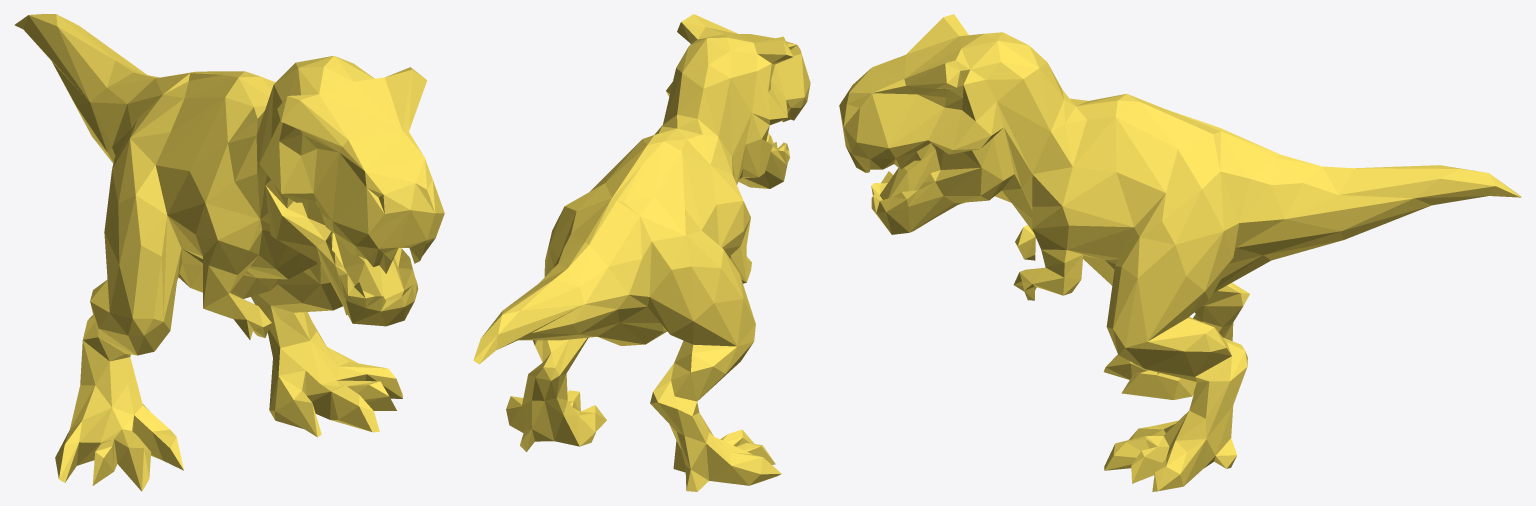
The model's file is card-177.glb.
3 renders of one model, left to right at view 1: azimuth 30°, elevation 25°; view 2: azimuth 150°, elevation 25°; view 3: azimuth 270°, elevation 25°, orthographic. The views are drawn at different scales.
Visible parts, largest first — view 1: card-177.glb.obj; view 2: card-177.glb.obj; view 3: card-177.glb.obj.
Boxes of the visible parts, x1=… form: card-177.glb.obj: x1=14, y1=14, x2=444, y2=491; card-177.glb.obj: x1=473, y1=14, x2=810, y2=491; card-177.glb.obj: x1=839, y1=14, x2=1521, y2=491.
Size of the model in its own units: 0.281 by 0.35 by 0.5574.
